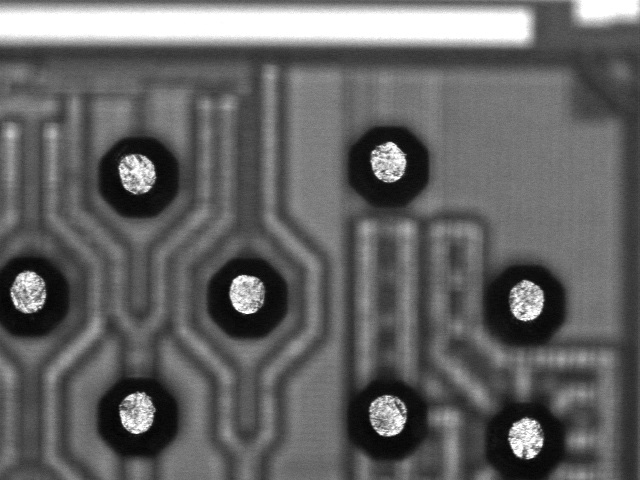over: (91, 133, 187, 221), (91, 370, 187, 458), (199, 253, 295, 341), (340, 121, 436, 209), (478, 260, 574, 348), (336, 373, 432, 461), (477, 392, 573, 480), (1, 250, 77, 343)
